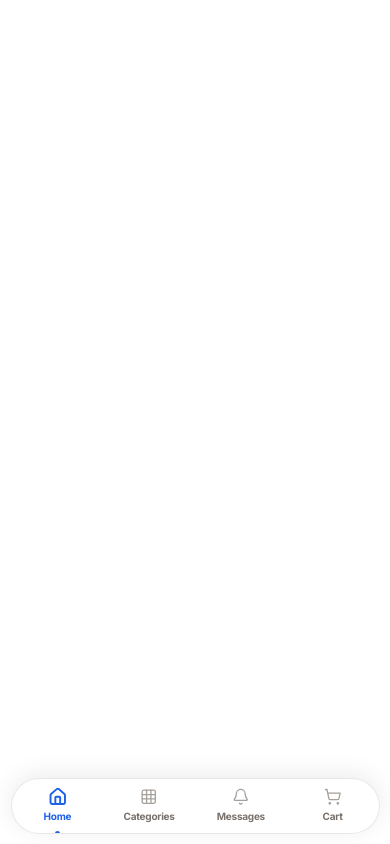
Scenario: MobileBottomNav categories sheet › does not crash and leaves the list empty when the category fetch fails
Click the button "Categories".
click(149, 806)  # box [103,778,195,832]
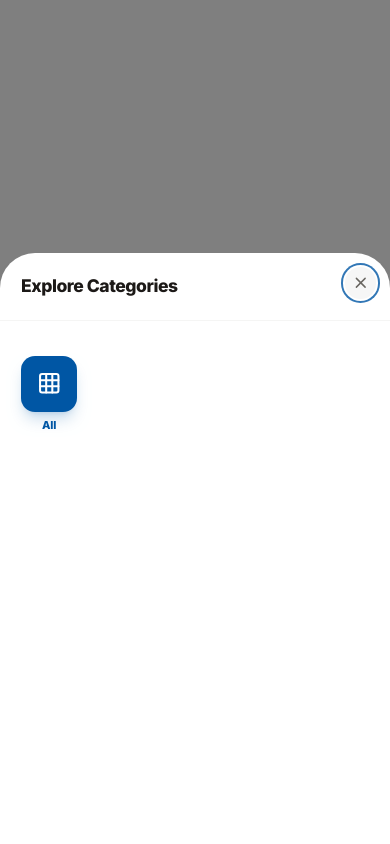
Now the link "All" is shown, box [21,356,77,432]
